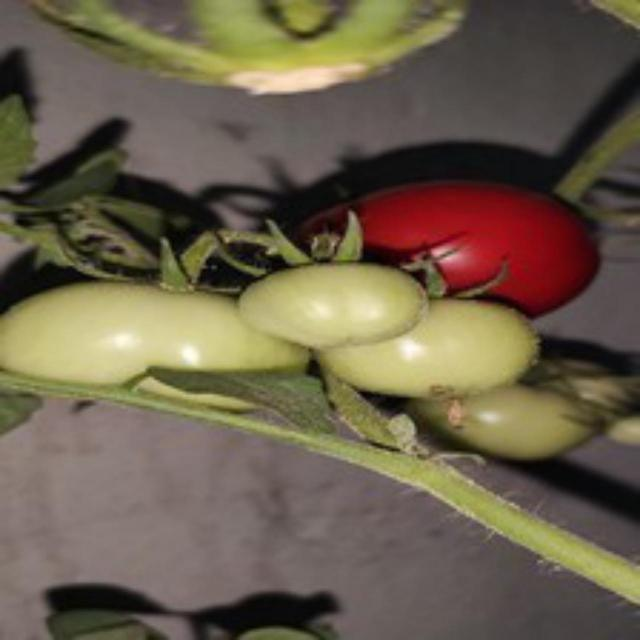tomato: (319, 158, 597, 335)
